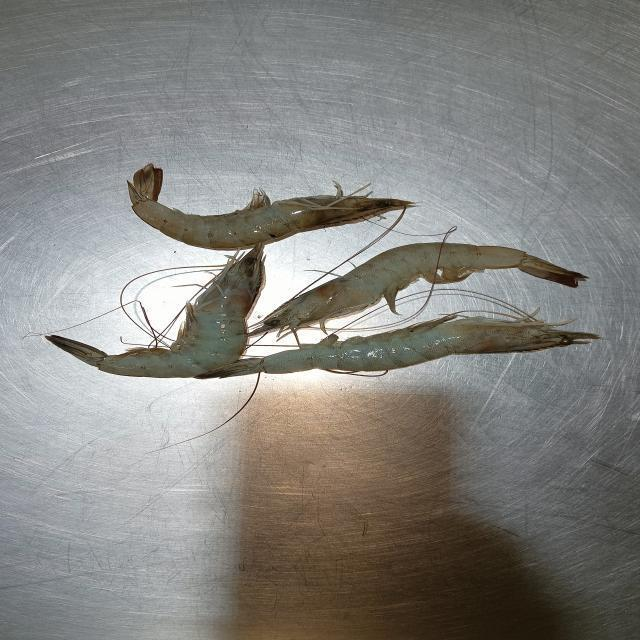shrimp: (247, 243, 585, 338), (46, 244, 263, 376), (195, 315, 598, 379), (129, 164, 411, 248)
